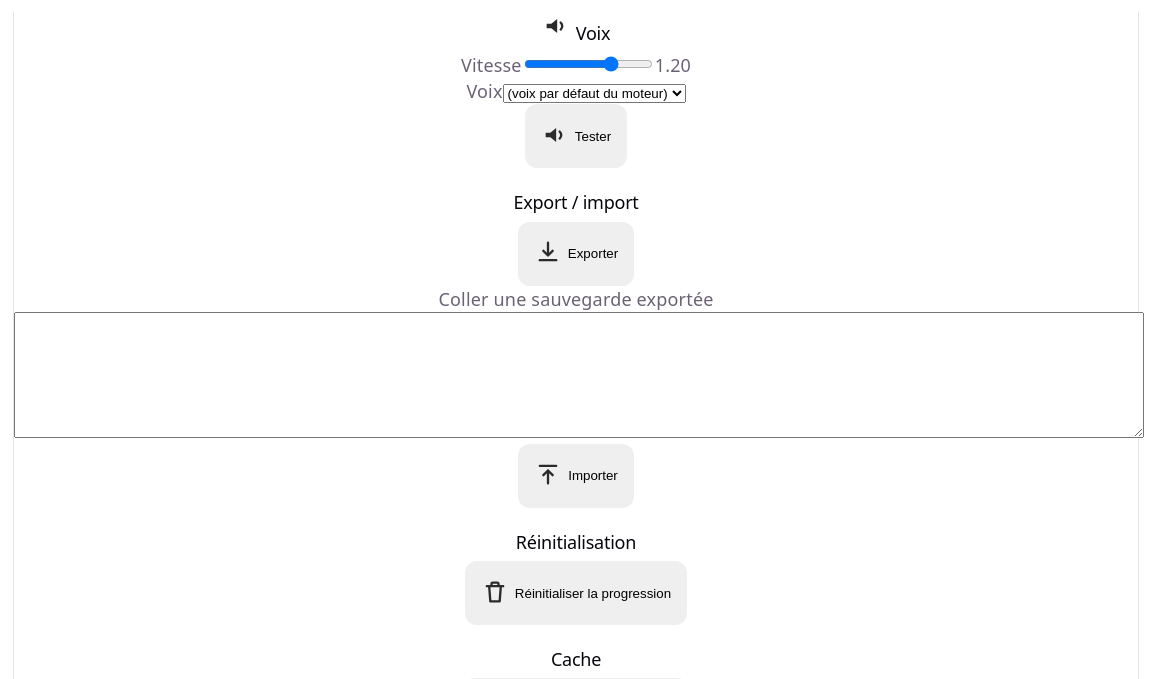
ParentSettings — réinitialisation à double confirmation › n'efface rien tant que les deux confirmations n'ont pas eu lieu
This screenshot has width=1152, height=679.
Click the button with test id "parent-reset-start": (576, 593) 465,561 -> 687,625
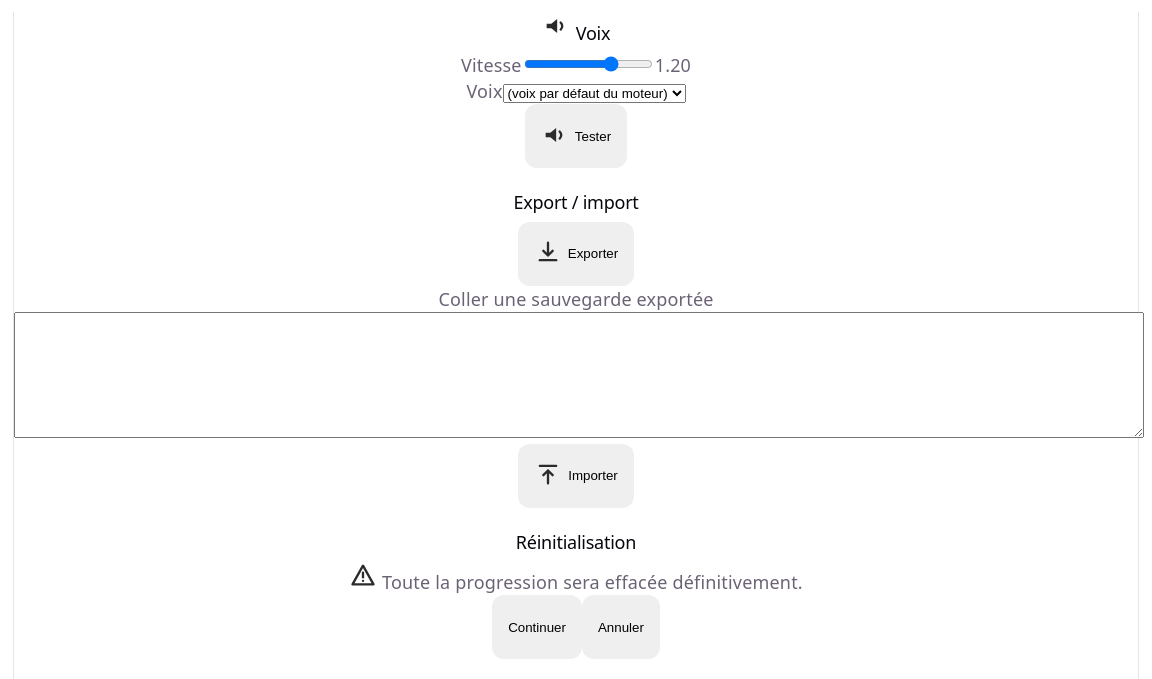
Result: the element with test id "parent-reset-confirm-1" is shown at 349,561 -> 803,659
Click the button with test id "parent-reset-continue": (537, 627) 492,595 -> 582,659
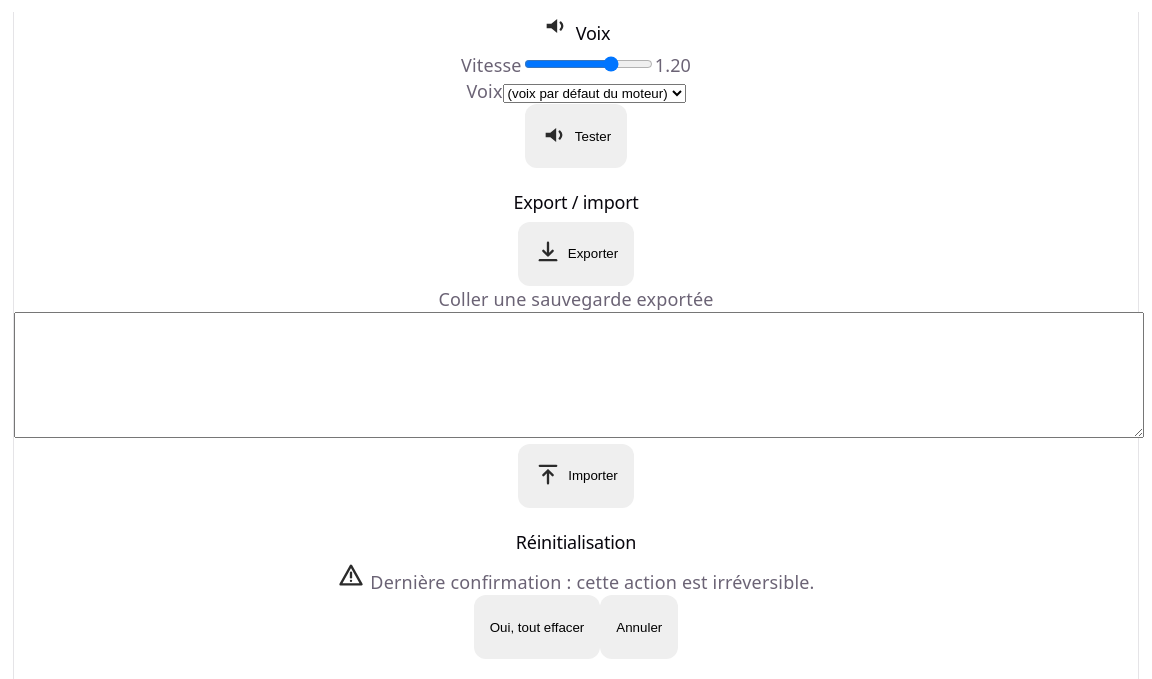
Result: the element with test id "parent-reset-confirm-2" is shown at 337,561 -> 814,659
